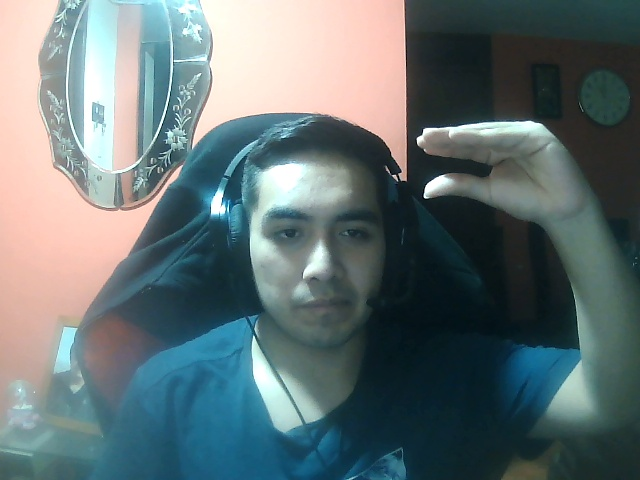no: (410, 114, 616, 230)
